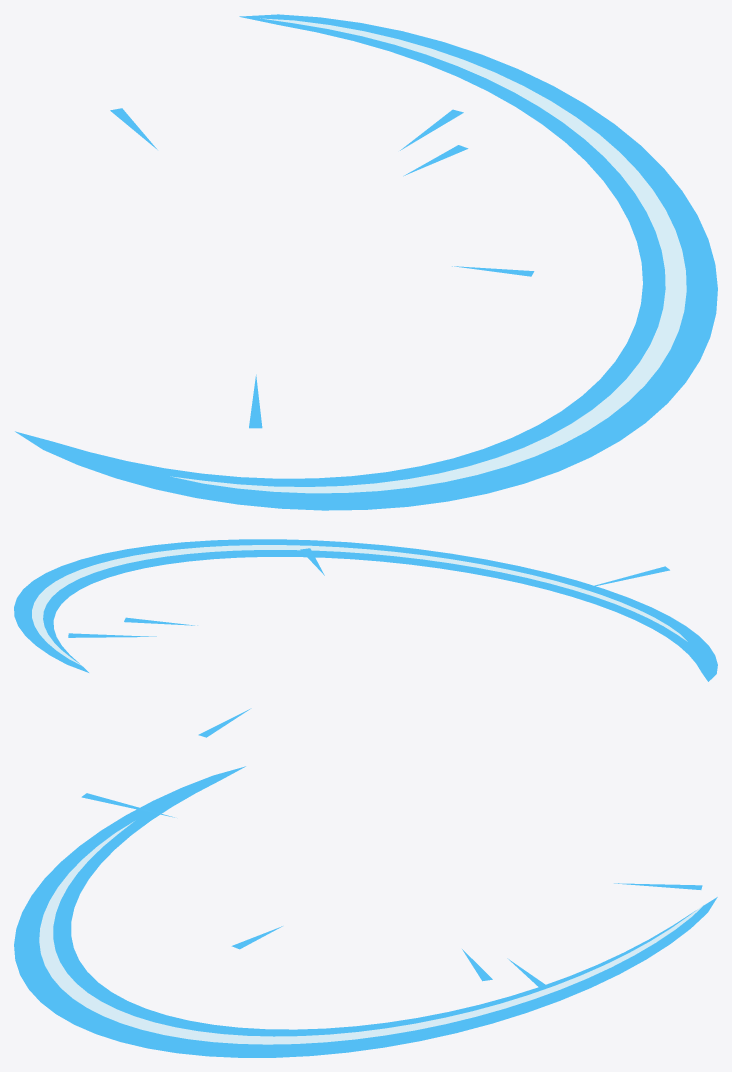
File: Muk_Slash.glb
3 views of the same model, one above another, from view 1: azimuth 30°, elevation 25°; view 2: azimuth 150°, elevation 25°; view 3: azimuth 270°, elevation 25° (orthographic). The views are drawn at different scales.
Parts seen in each view (by area): view 1: Muk_Slash_Blade, Muk_Slash_Core; view 2: Muk_Slash_Blade, Muk_Slash_Core; view 3: Muk_Slash_Blade, Muk_Slash_Core.
Part boxes in pixels (x1,y1,x2,y2): Muk_Slash_Blade: [15, 14, 717, 510]; Muk_Slash_Core: [170, 18, 686, 493]; Muk_Slash_Blade: [14, 539, 717, 681]; Muk_Slash_Core: [32, 545, 687, 665]; Muk_Slash_Blade: [14, 766, 717, 1057]; Muk_Slash_Core: [39, 821, 704, 1044].
Bounding box in the file's own units: 0.00198 × 0.000353 × 0.00194.
